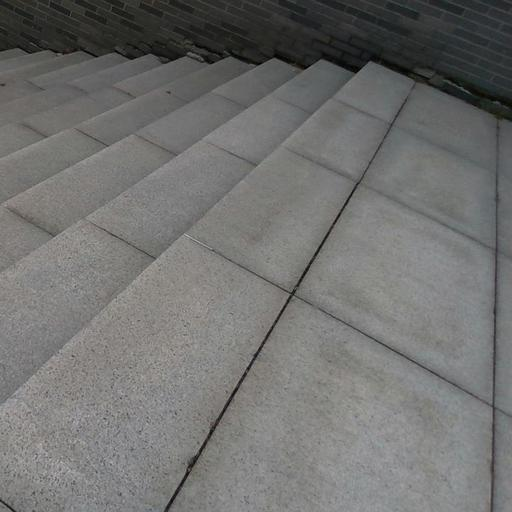stairs: (0, 52, 511, 511)
